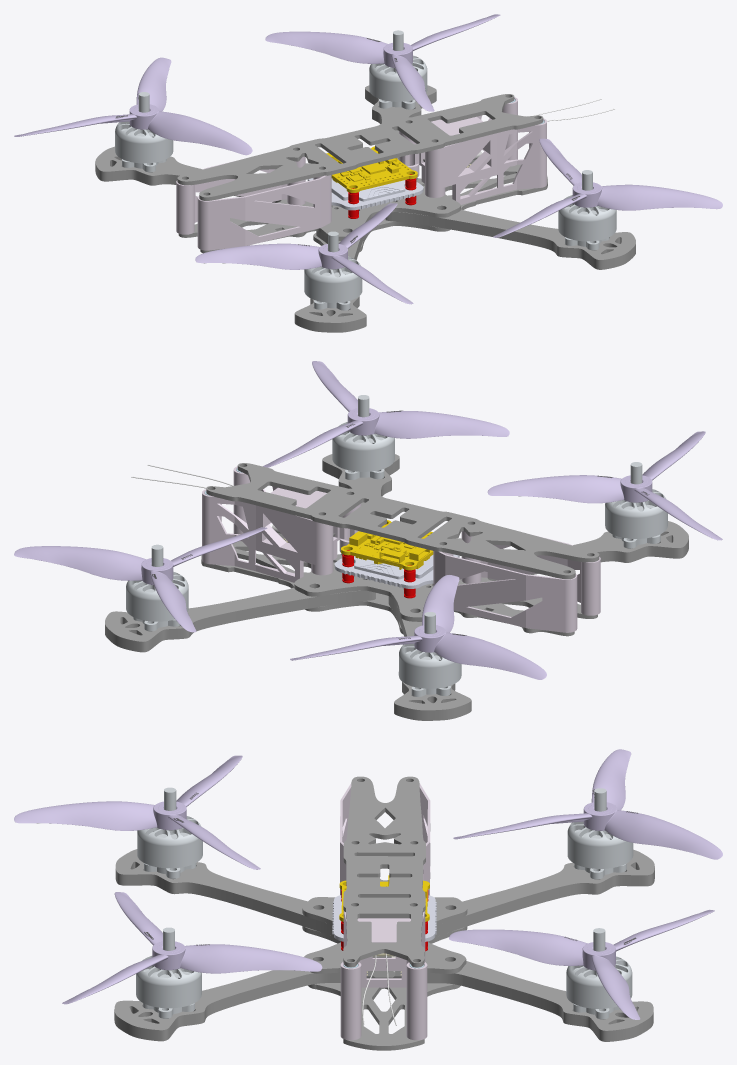
File: Drone.glb
The picture shows the model from 3 angles, top to bottom: view 1: azimuth 30°, elevation 25°; view 2: azimuth 150°, elevation 25°; view 3: azimuth 270°, elevation 25°; orthographic projection. The views are drawn at different scales.
Visible parts, largest first — view 1: Part 6, Part 1 (×2), Part 3 (×4), iFlight XING2 2207 (×4), Gemfan5146 CCW (×2), Gemfan5146 CW (×2), Part 4, Part 5, occurrence of 00, Part 2, SPF455A 4in1 ESC; view 2: Part 6, Part 1 (×2), Part 3 (×4), iFlight XING2 2207 (×4), Gemfan5146 CCW (×2), Gemfan5146 CW (×2), Part 5, Part 4, occurrence of 00, Part 2, SPF455A 4in1 ESC; view 3: Part 3 (×4), Part 6, iFlight XING2 2207 (×4), Gemfan5146 CCW (×2), Gemfan5146 CW (×2), Part 1 (×2), Part 2, SPF455A 4in1 ESC, Part 5, Part 4.
Boxes of the visible parts, x1,y1,x2,y2 form: Part 6: (177,94,543,200); Part 1 (×2): (178,97,546,253); Part 3 (×4): (95,85,635,332); iFlight XING2 2207 (×4): (115,30,616,310); Gemfan5146 CCW (×2): (14,57,722,237); Gemfan5146 CW (×2): (195,14,500,304); Part 4: (197,175,331,250); Part 5: (176,156,305,234); occurrence of 00: (326,146,417,192); Part 2: (313,164,547,252); SPF455A 4in1 ESC: (307,178,423,210); Part 6: (206,463,599,579); Part 1 (×2): (202,466,597,636); Part 3 (×4): (105,454,688,720); iFlight XING2 2207 (×4): (126,395,667,696); Gemfan5146 CCW (×2): (263,361,546,679); Gemfan5146 CW (×2): (14,431,722,632); Part 5: (433,551,577,632); Part 4: (461,531,600,615); occurrence of 00: (341,520,433,570); Part 2: (201,541,432,634); SPF455A 4in1 ESC: (334,554,459,588); Part 3 (×4): (114,849,654,1041); Part 6: (343,776,425,967); iFlight XING2 2207 (×4): (136,787,633,1019); Gemfan5146 CCW (×2): (62,749,722,1004); Gemfan5146 CW (×2): (14,755,714,1019); Part 1 (×2): (302,879,467,1040); Part 2: (302,926,467,1050); SPF455A 4in1 ESC: (332,895,436,941); Part 5: (419,783,430,895); Part 4: (340,783,351,895).
Bounding box in the file's own units: 0.2607 × 0.0421 × 0.2897.
